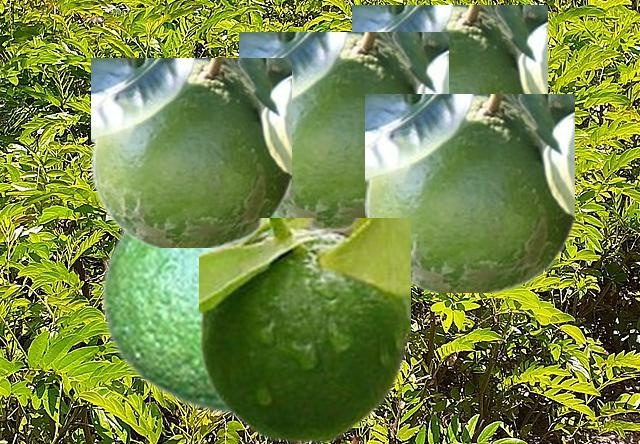dalandan: (199, 218, 409, 442), (365, 94, 573, 291), (239, 32, 447, 225), (91, 58, 290, 246), (98, 229, 229, 414), (352, 5, 546, 93)
